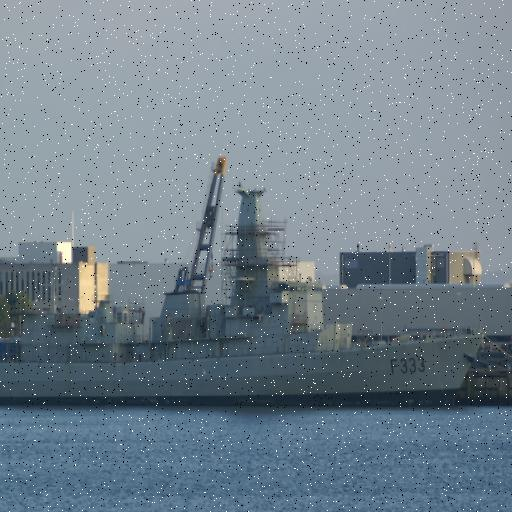Fragata: (1, 172, 487, 416)
